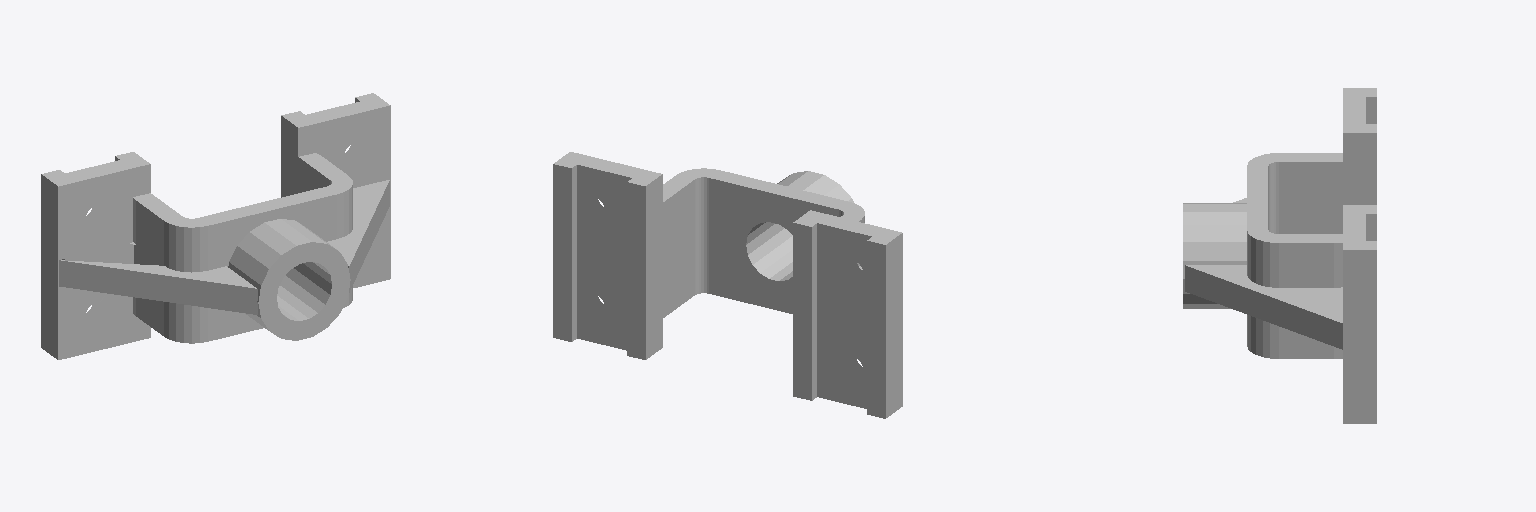
The picture shows the model from 3 angles: view 1: azimuth 30°, elevation 25°; view 2: azimuth 150°, elevation 25°; view 3: azimuth 270°, elevation 25°; orthographic projection.
Visible parts, largest first — view 1: Loft01; view 2: Loft01; view 3: Loft01.
Part boxes in pixels (bbox=[...]): Loft01: bbox=[41, 93, 390, 359]; Loft01: bbox=[553, 152, 902, 418]; Loft01: bbox=[1183, 88, 1376, 423].
Size of the model in its own units: 180 by 90 by 91.